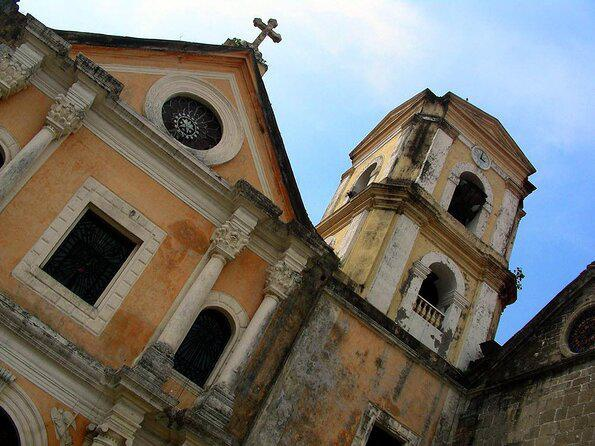san_agustin_church_intramuros_manila: (1, 1, 540, 446)
